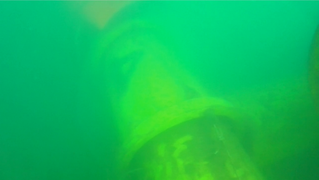4: (107, 47, 143, 103)
leak: (68, 1, 129, 31)
pipe: (86, 18, 265, 179), (224, 73, 319, 166), (307, 23, 319, 115)
